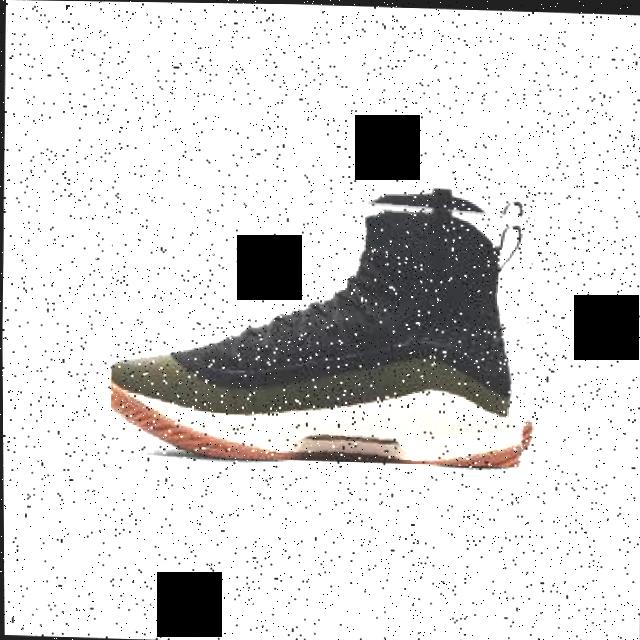shoe: (108, 178, 536, 466)
